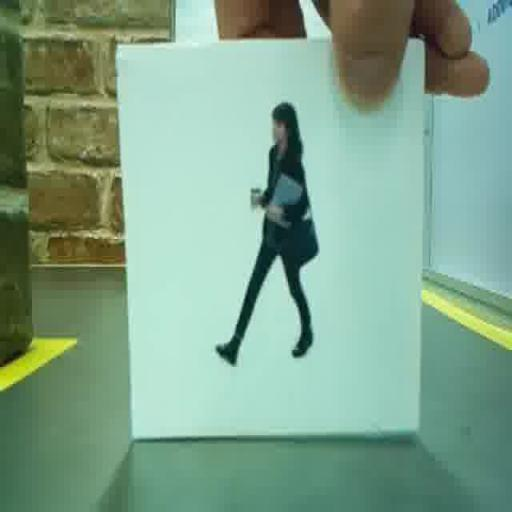human: (215, 102, 318, 364)
